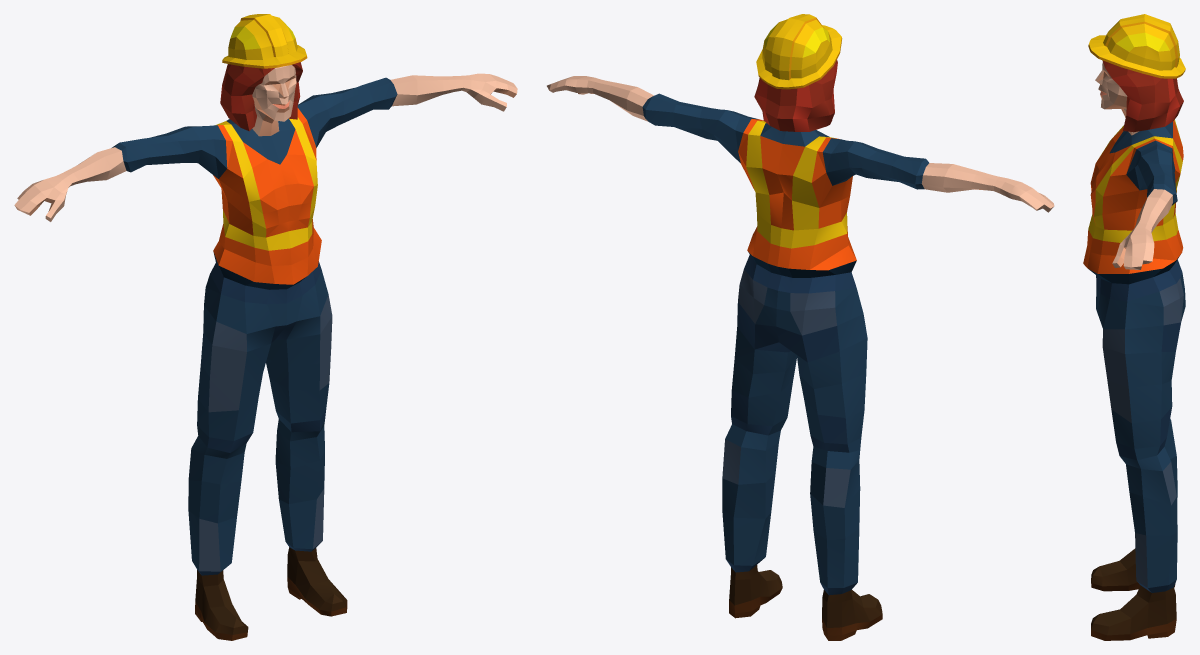
File: worker_Female_constructor_A-model.obj
3 renders of one model, left to right at view 1: azimuth 30°, elevation 25°; view 2: azimuth 150°, elevation 25°; view 3: azimuth 270°, elevation 25°, orthographic.
Visible parts, largest first — view 1: worker_Female_constructor_A; view 2: worker_Female_constructor_A; view 3: worker_Female_constructor_A.
Part boxes in pixels (x1,y1,x2,y2): worker_Female_constructor_A: (14,14,517,640); worker_Female_constructor_A: (547,14,1054,640); worker_Female_constructor_A: (1083,14,1185,640).
Size of the model in its own units: 154 by 175 by 27.48.
